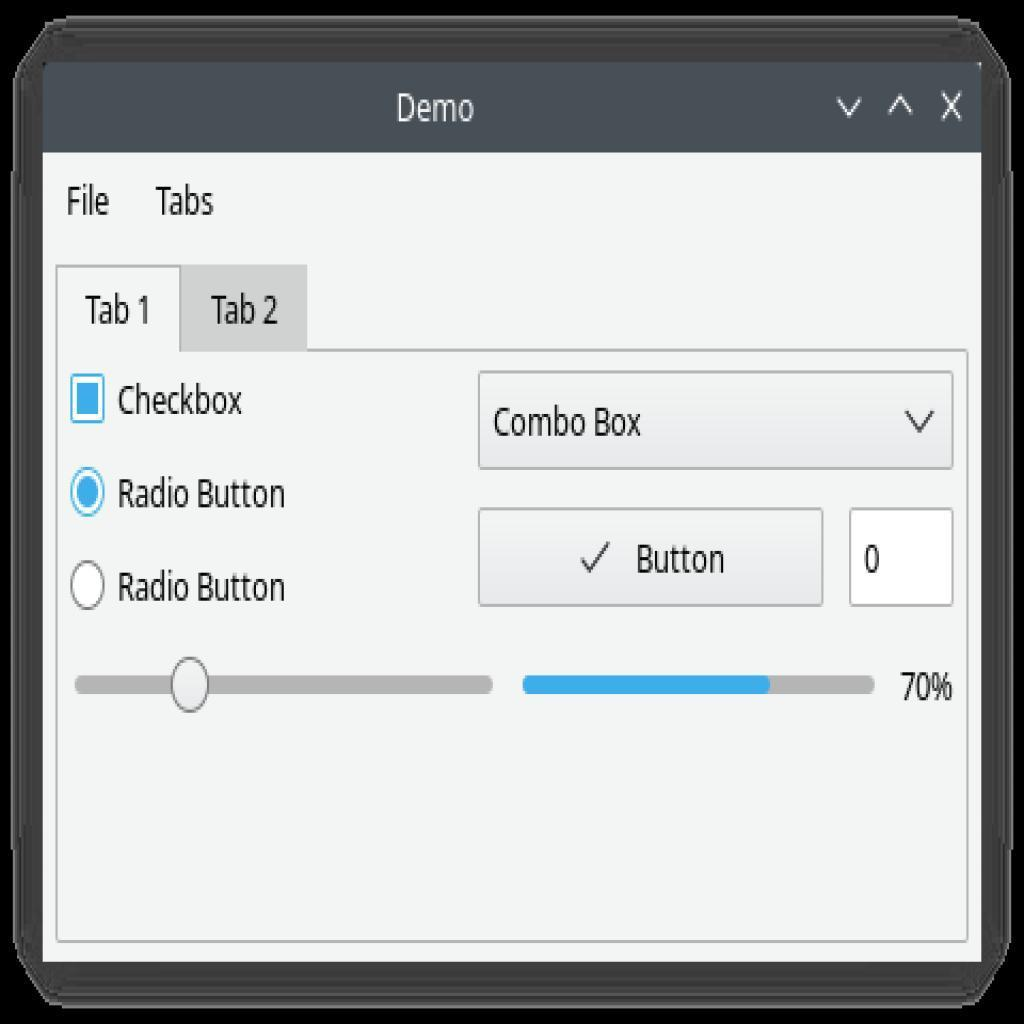button: (478, 509, 826, 611), (181, 265, 309, 354)
checkbox: (69, 377, 107, 426)
dropdown: (481, 371, 955, 470)
icon: (880, 87, 920, 129), (830, 91, 870, 130), (932, 90, 969, 129)
input: (851, 511, 954, 607)
radio: (69, 466, 108, 522), (71, 558, 106, 612)
slider: (71, 643, 502, 723), (522, 647, 888, 720)
